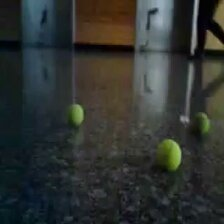tennis: (156, 138, 182, 172), (190, 112, 210, 137), (67, 104, 84, 127)
